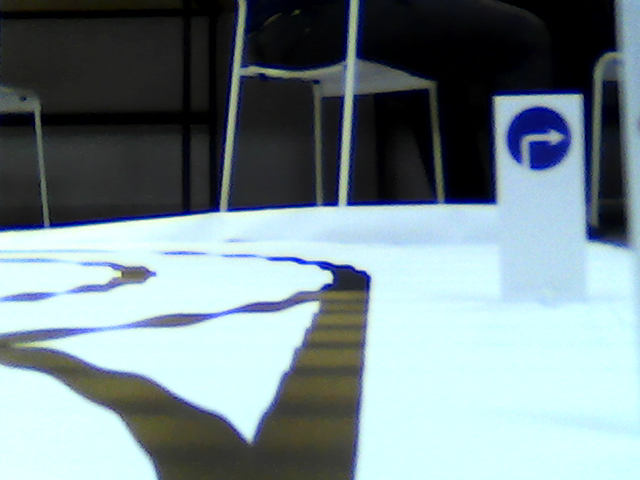Right: (507, 106, 572, 174)
